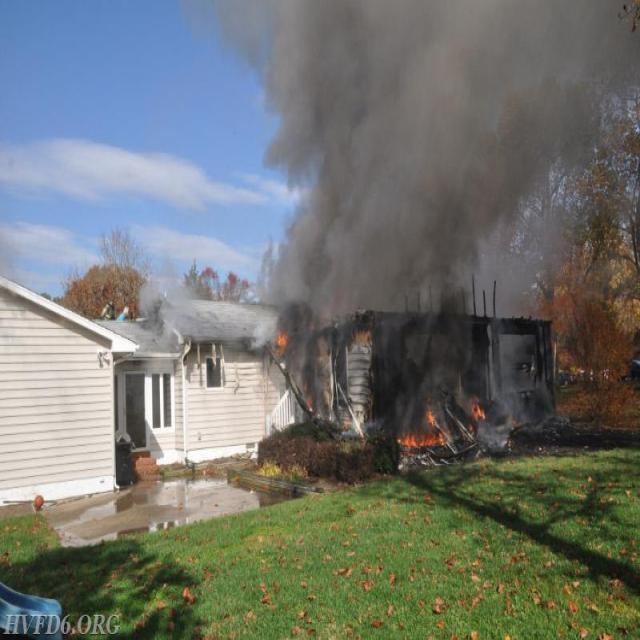smoke: (282, 6, 622, 295)
